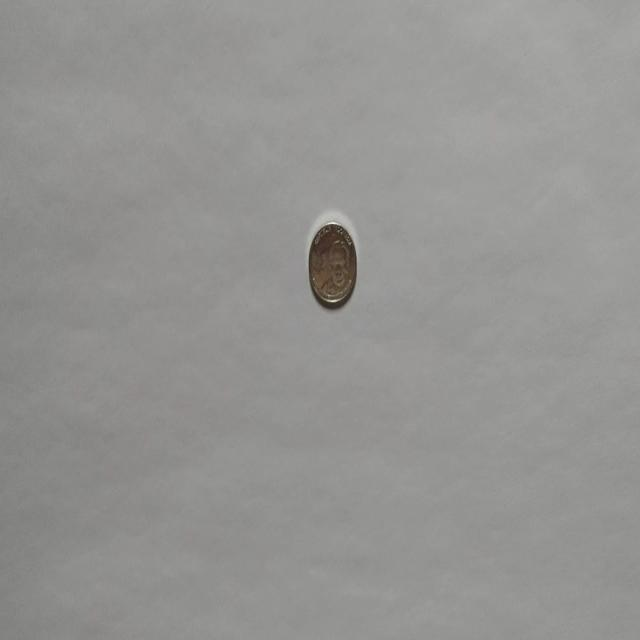seratus rupiah: (308, 220, 357, 308)
